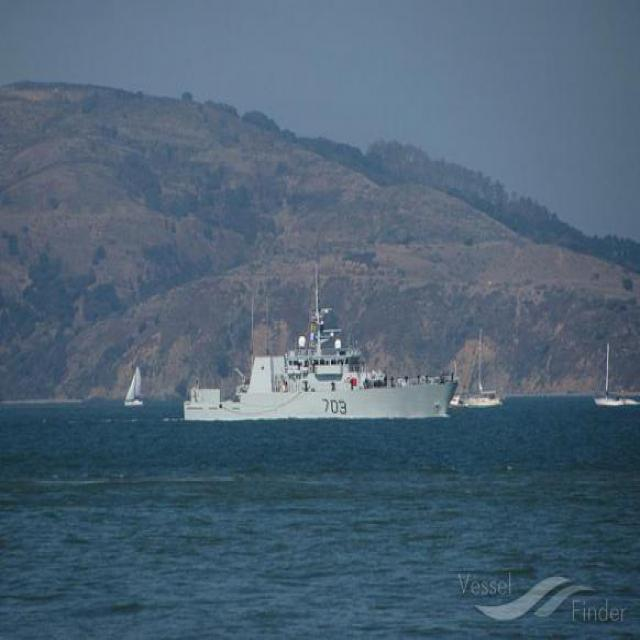OCR: (319, 395, 347, 415)
